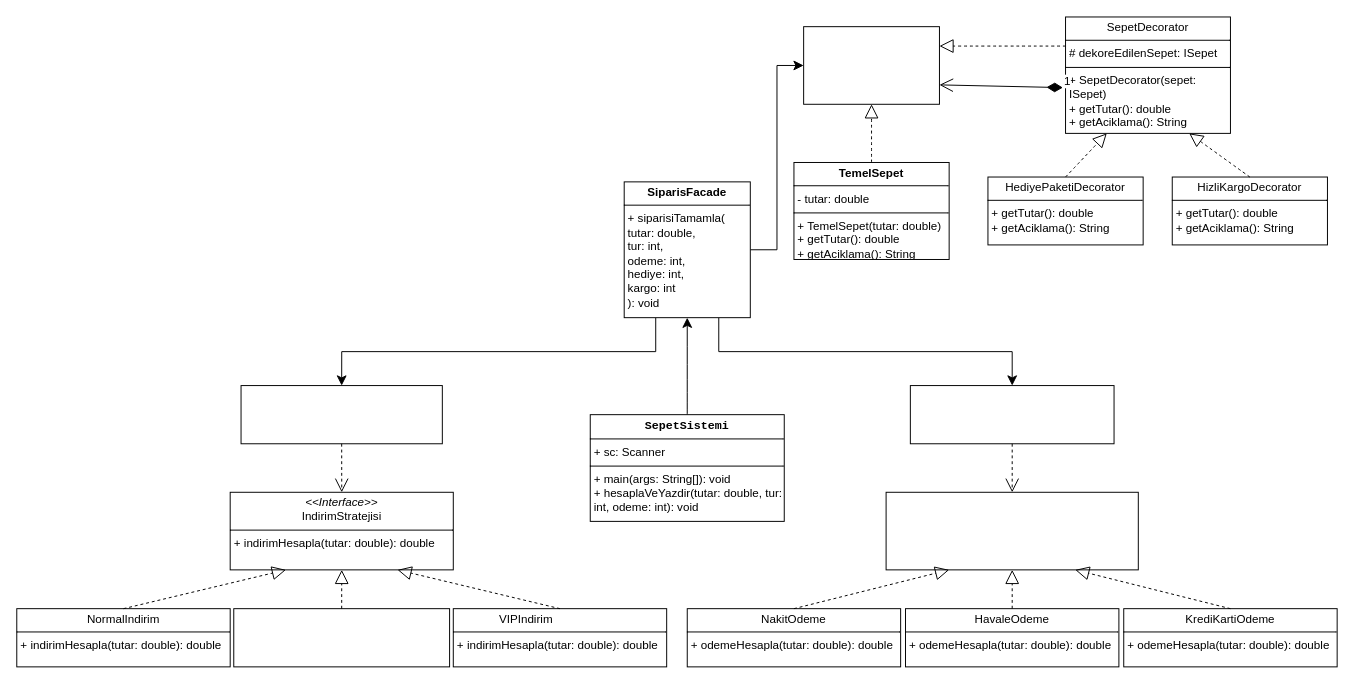
The diagram is 1355 pixels wide and 694 high, and some of its shapes have lost their labels. Here are the shapes that lost their labels. From the top down, the centre of each, then its label:
At point 871,65: "<<Interface>> ISepet + getTutar(): double + getAciklama(): String".
At point 341,414: "IndirimFabrikasi + getIndirim(tip: int): IndirimStratejisi".
At point 1011,414: "OdemeFabrikasi + getOdeme(tip: int): OdemeYontemi".
At point 1011,530: "<<Interface>> OdemeYontemi + odemeHesapla(tutar: double): double".
At point 341,637: "OgrenciIndirimi + indirimHesapla(tutar: double): double".
